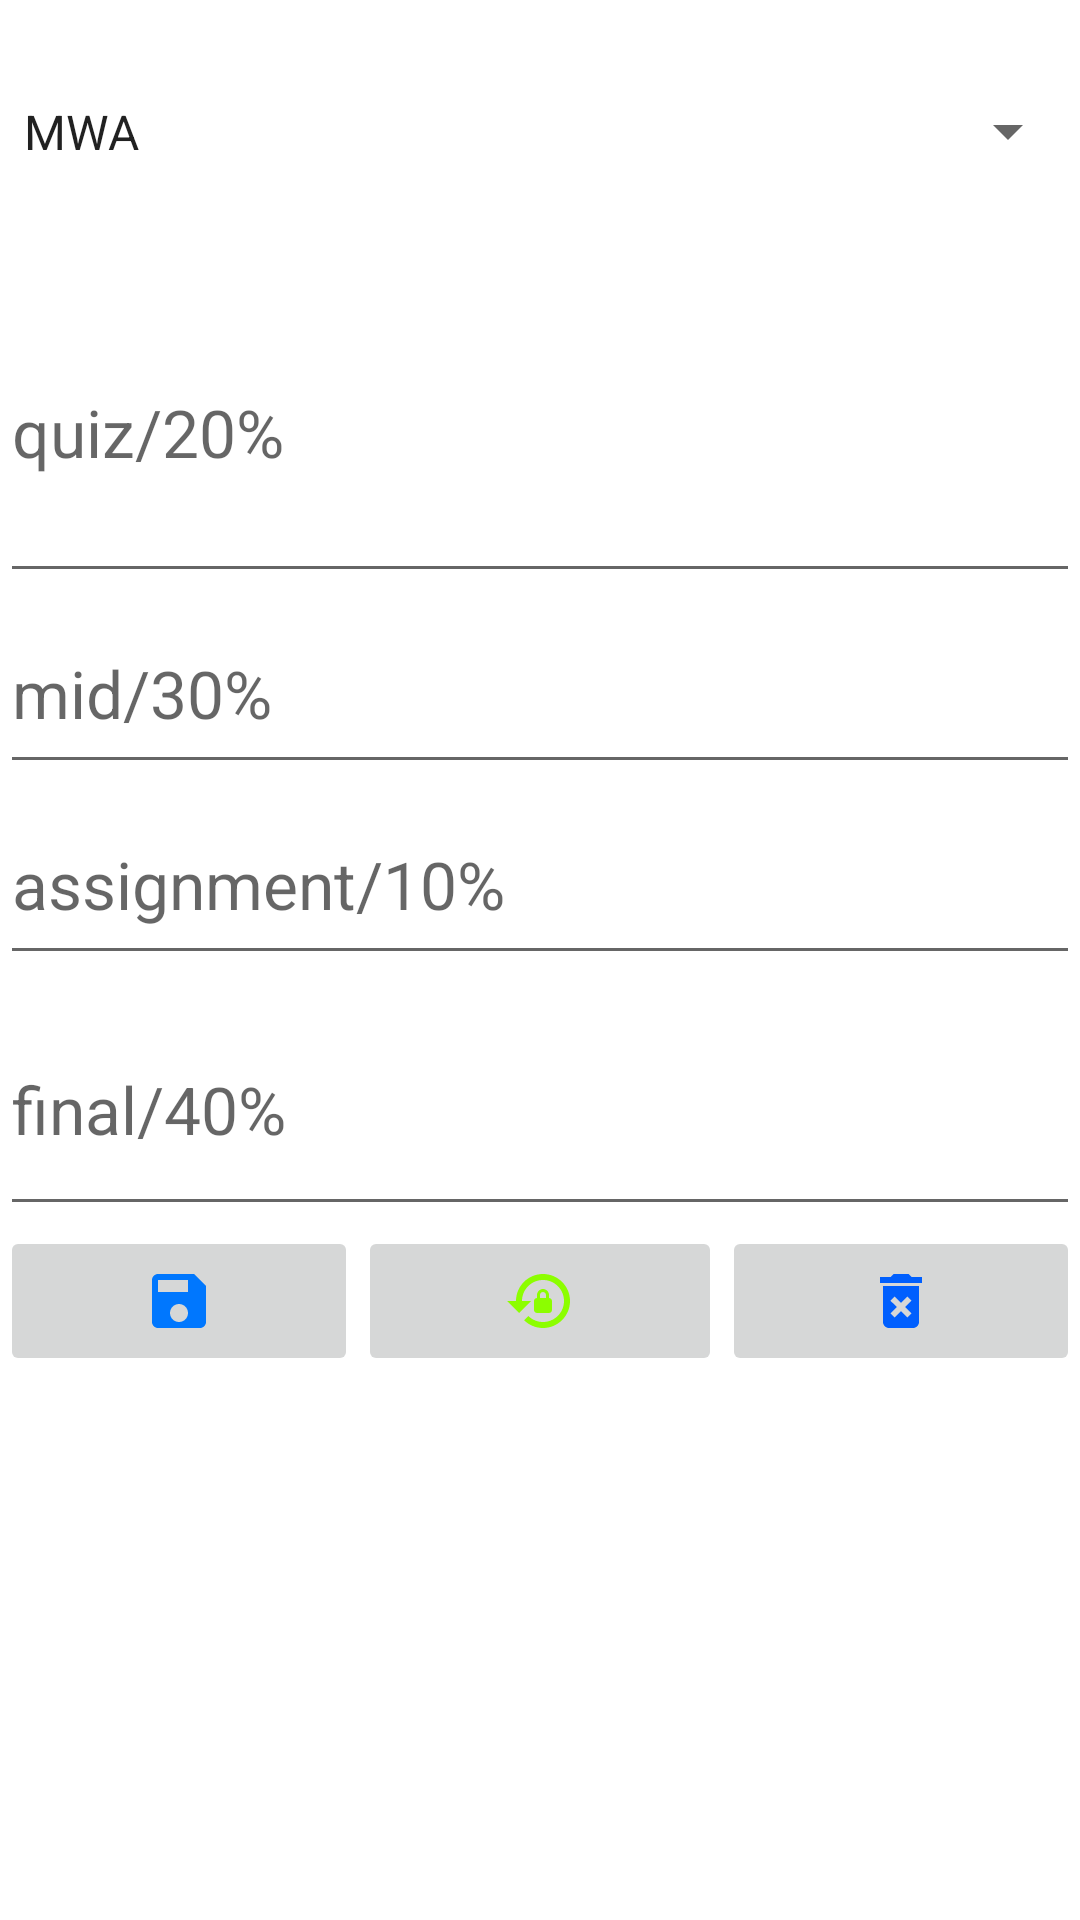

Screen size 1080x1920. Icon name, then its center in pixels as (x=x, y=y):
delete forever: (x=901, y=1301)
lock reset: (x=540, y=1301)
save: (x=179, y=1301)
